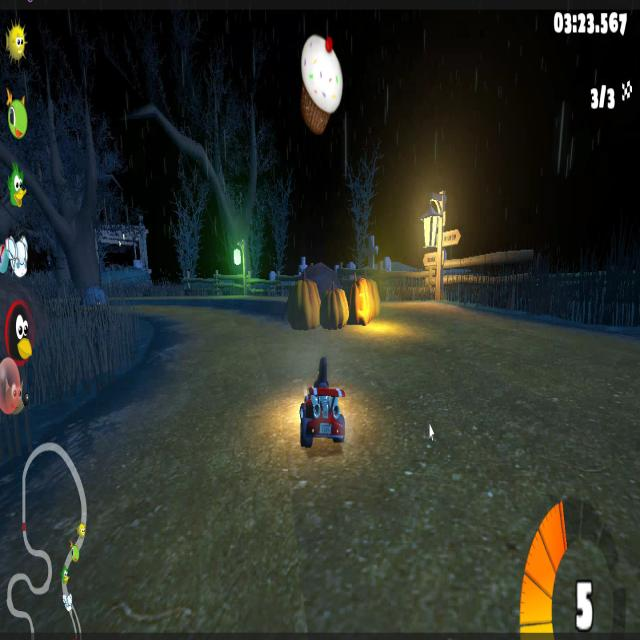player_kart: (295, 353, 349, 457)
track: (0, 467, 640, 630), (353, 335, 640, 460), (140, 362, 296, 461), (148, 320, 294, 362), (78, 392, 138, 458), (111, 290, 196, 322)
